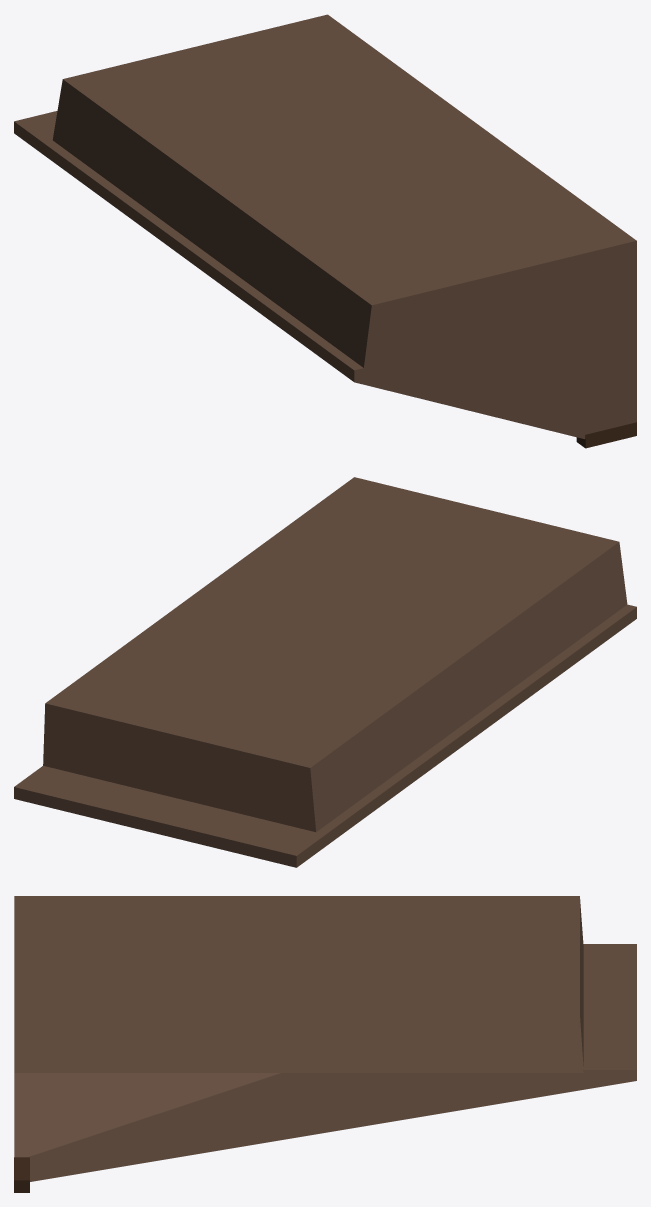
3 renders of one model, top to bottom at view 1: azimuth 30°, elevation 25°; view 2: azimuth 150°, elevation 25°; view 3: azimuth 270°, elevation 25°, orthographic. The views are drawn at different scales.
Parts seen in each view (by area): view 1: Rooftop_type1_005; view 2: Rooftop_type1_005; view 3: Rooftop_type1_005.
Boxes of the visible parts, x1,y1,x2,y2 form: Rooftop_type1_005: [14, 14, 636, 448]; Rooftop_type1_005: [14, 477, 636, 867]; Rooftop_type1_005: [14, 896, 636, 1192].
Size of the model in its own units: 338 by 223 by 705.
